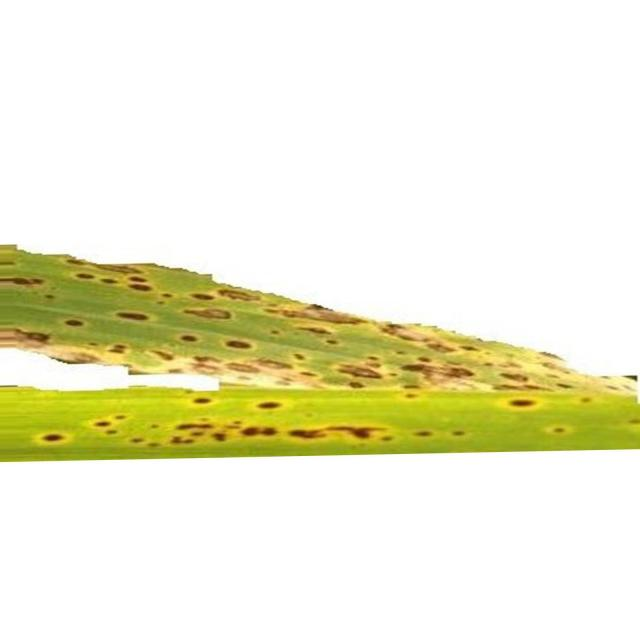Brown_Spot: (35, 431, 70, 446), (0, 276, 44, 287), (185, 309, 231, 319), (222, 420, 250, 436), (346, 426, 379, 439), (289, 429, 326, 439), (241, 426, 278, 436), (176, 422, 212, 430), (129, 275, 148, 289), (116, 312, 149, 320), (256, 400, 282, 410), (509, 399, 536, 408), (226, 340, 251, 349), (258, 401, 281, 409), (64, 318, 84, 327), (415, 430, 434, 438), (76, 272, 95, 280), (180, 334, 198, 342), (212, 432, 226, 441), (171, 439, 194, 444), (192, 398, 211, 404), (94, 420, 110, 427), (552, 426, 566, 434), (451, 429, 466, 436), (101, 278, 118, 284), (130, 436, 144, 443), (138, 285, 152, 292), (105, 429, 119, 435), (381, 435, 394, 441), (580, 396, 592, 402), (149, 442, 160, 448), (191, 431, 204, 436), (115, 415, 126, 420), (151, 424, 159, 429), (45, 295, 55, 299)
